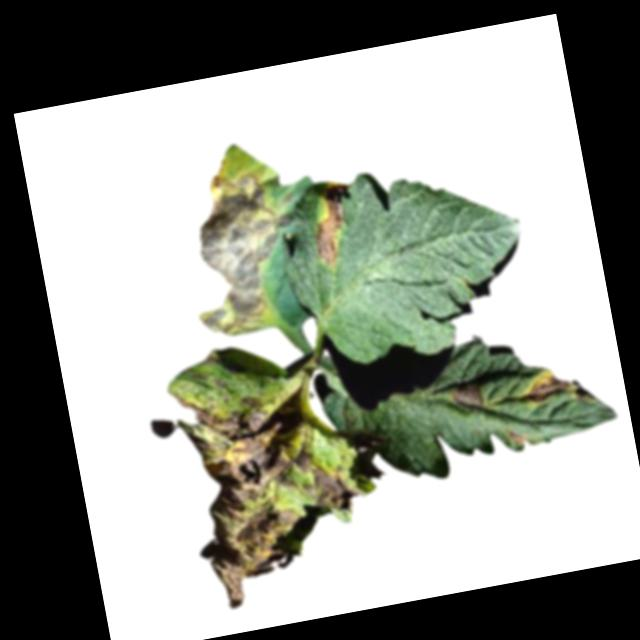Early_blight: (176, 380, 370, 614), (174, 161, 315, 342), (302, 179, 361, 268), (524, 365, 577, 405), (447, 380, 485, 413), (504, 427, 532, 452)
